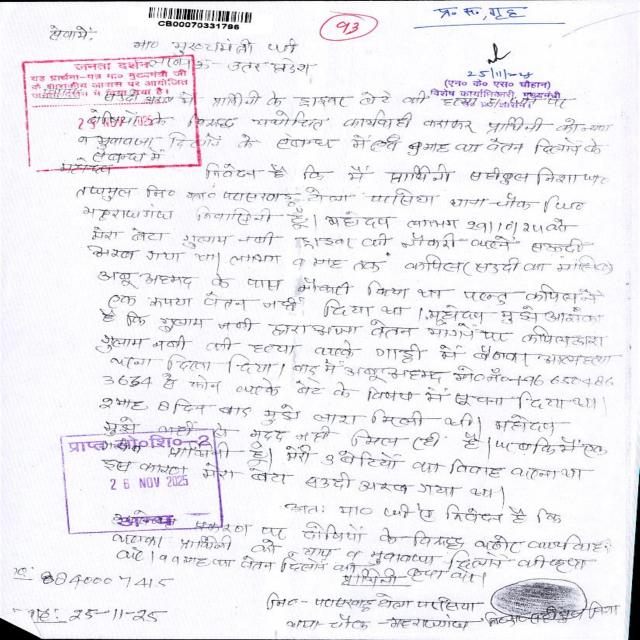antritgovtstamp: (52, 430, 233, 532)
barcode: (145, 6, 256, 34)
fingerprint: (491, 576, 587, 621)
jantadarsan: (13, 55, 205, 174)
signnamestamp: (427, 38, 565, 112)
